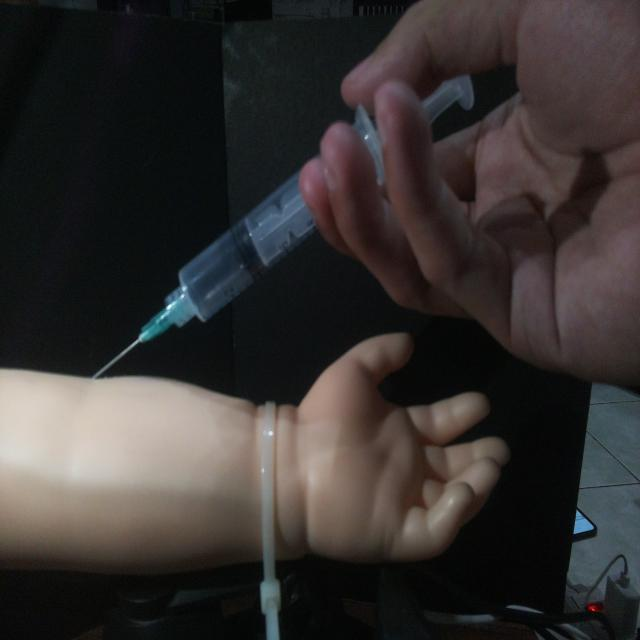23deg: (86, 68, 478, 382)
